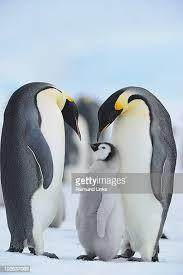emporer: (0, 74, 95, 260)
